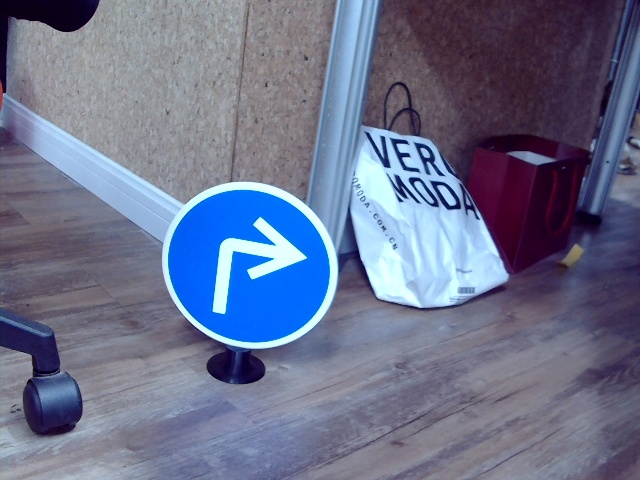turn_right: (209, 212, 305, 324)
